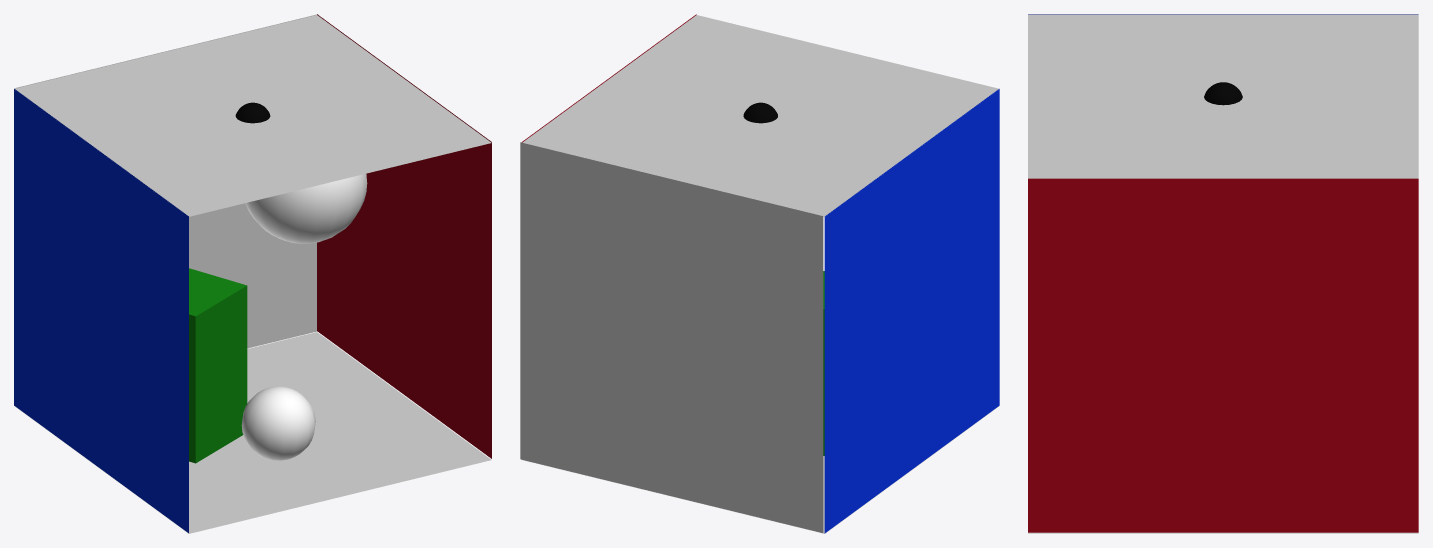
File: cornell_box.obj
3 views of the same model, side by side, from view 1: azimuth 30°, elevation 25°; view 2: azimuth 150°, elevation 25°; view 3: azimuth 270°, elevation 25° (orthographic). The views are drawn at different scales.
Visible parts, largest first — view 1: pPlane2, pPlane5, pPlane3, pPlane1, pPlane4, pCube1, pSphere4, pSphere2, pSphere3; view 2: pPlane4, pPlane2, pPlane5, pPlane1, pSphere3; view 3: pPlane3, pPlane5, pPlane1, pSphere3.
Part boxes in pixels (left/top/right/bottom): pPlane2: left=14, top=88, right=188, bottom=533; pPlane5: left=15, top=15, right=491, bottom=216; pPlane3: left=317, top=14, right=491, bottom=458; pPlane1: left=14, top=332, right=491, bottom=533; pPlane4: left=15, top=14, right=316, bottom=348; pCube1: left=189, top=268, right=247, bottom=463; pSphere4: left=245, top=174, right=367, bottom=243; pSphere2: left=241, top=386, right=315, bottom=460; pSphere3: left=235, top=102, right=270, bottom=123; pPlane4: left=520, top=142, right=823, bottom=532; pPlane2: left=824, top=89, right=999, bottom=533; pPlane5: left=522, top=15, right=998, bottom=216; pPlane1: left=522, top=406, right=998, bottom=533; pSphere3: left=743, top=102, right=777, bottom=123; pPlane3: left=1028, top=178, right=1418, bottom=532; pPlane5: left=1028, top=14, right=1418, bottom=178; pPlane1: left=1028, top=532, right=1418, bottom=533; pSphere3: left=1204, top=82, right=1242, bottom=105.
Size of the model in its own units: 20.1 by 20.73 by 20.01.
